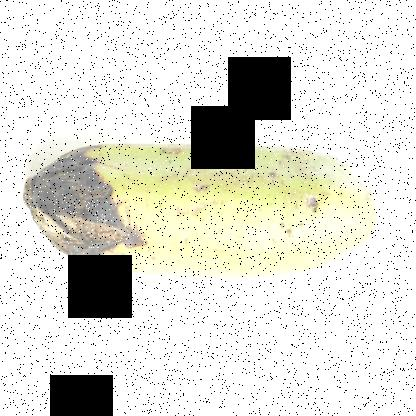rotten: (23, 136, 174, 292)
unripe: (130, 118, 394, 294)
